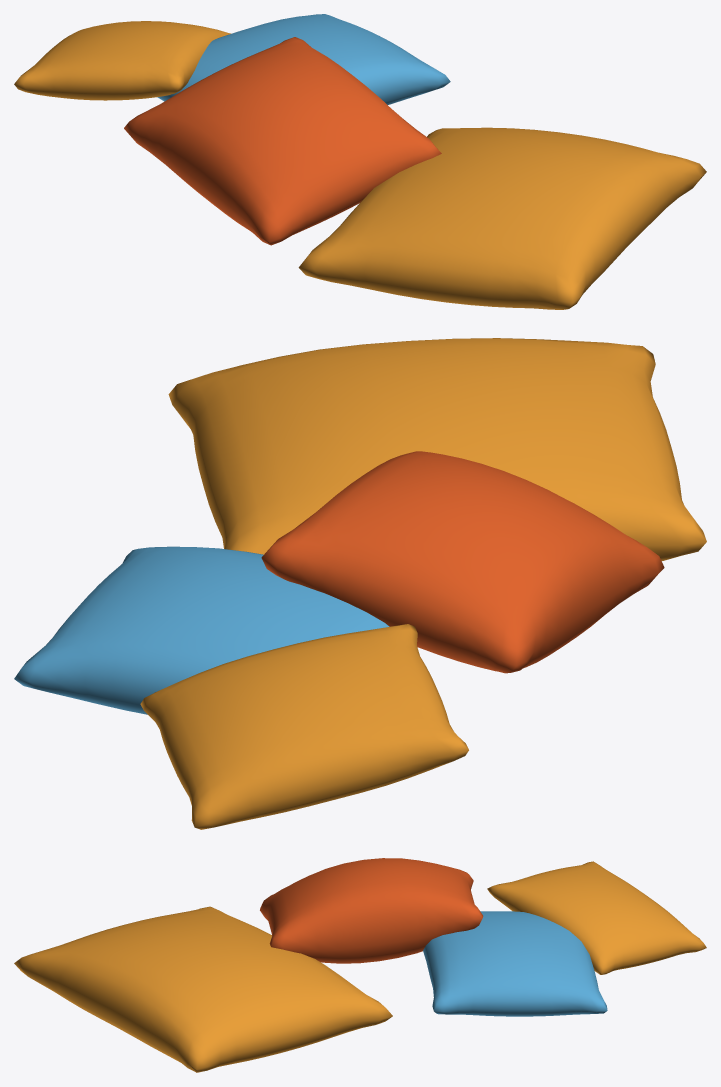
Rendered from cuscini_LOD0.fbx.
3 views of the same model, one above another, from view 1: azimuth 30°, elevation 25°; view 2: azimuth 150°, elevation 25°; view 3: azimuth 270°, elevation 25° (orthographic). The views are drawn at different scales.
Visible parts, largest first — view 1: Cushion; view 2: Cushion; view 3: Cushion.
Boxes of the visible parts, x1=… form: Cushion: x1=14, y1=14, x2=706, y2=309; Cushion: x1=14, y1=338, x2=706, y2=829; Cushion: x1=14, y1=858, x2=706, y2=1072.
Size of the model in its own units: 405 by 115 by 639.
